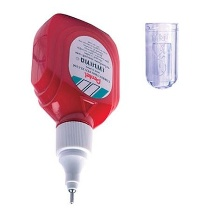correction_fluid: (28, 11, 121, 206)
